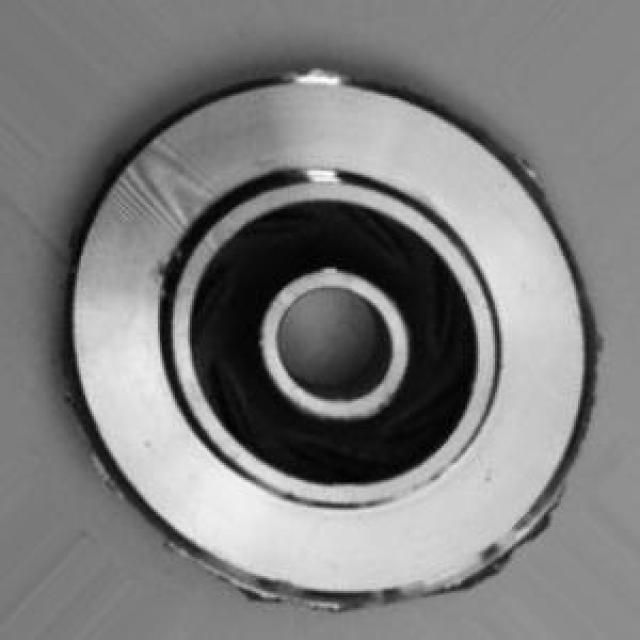Defect: (295, 55, 358, 96)
